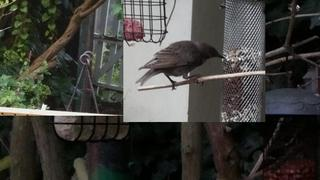starling: (135, 40, 225, 91)
